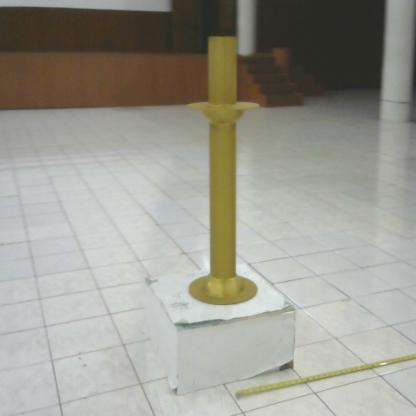pole: (183, 26, 269, 311)
